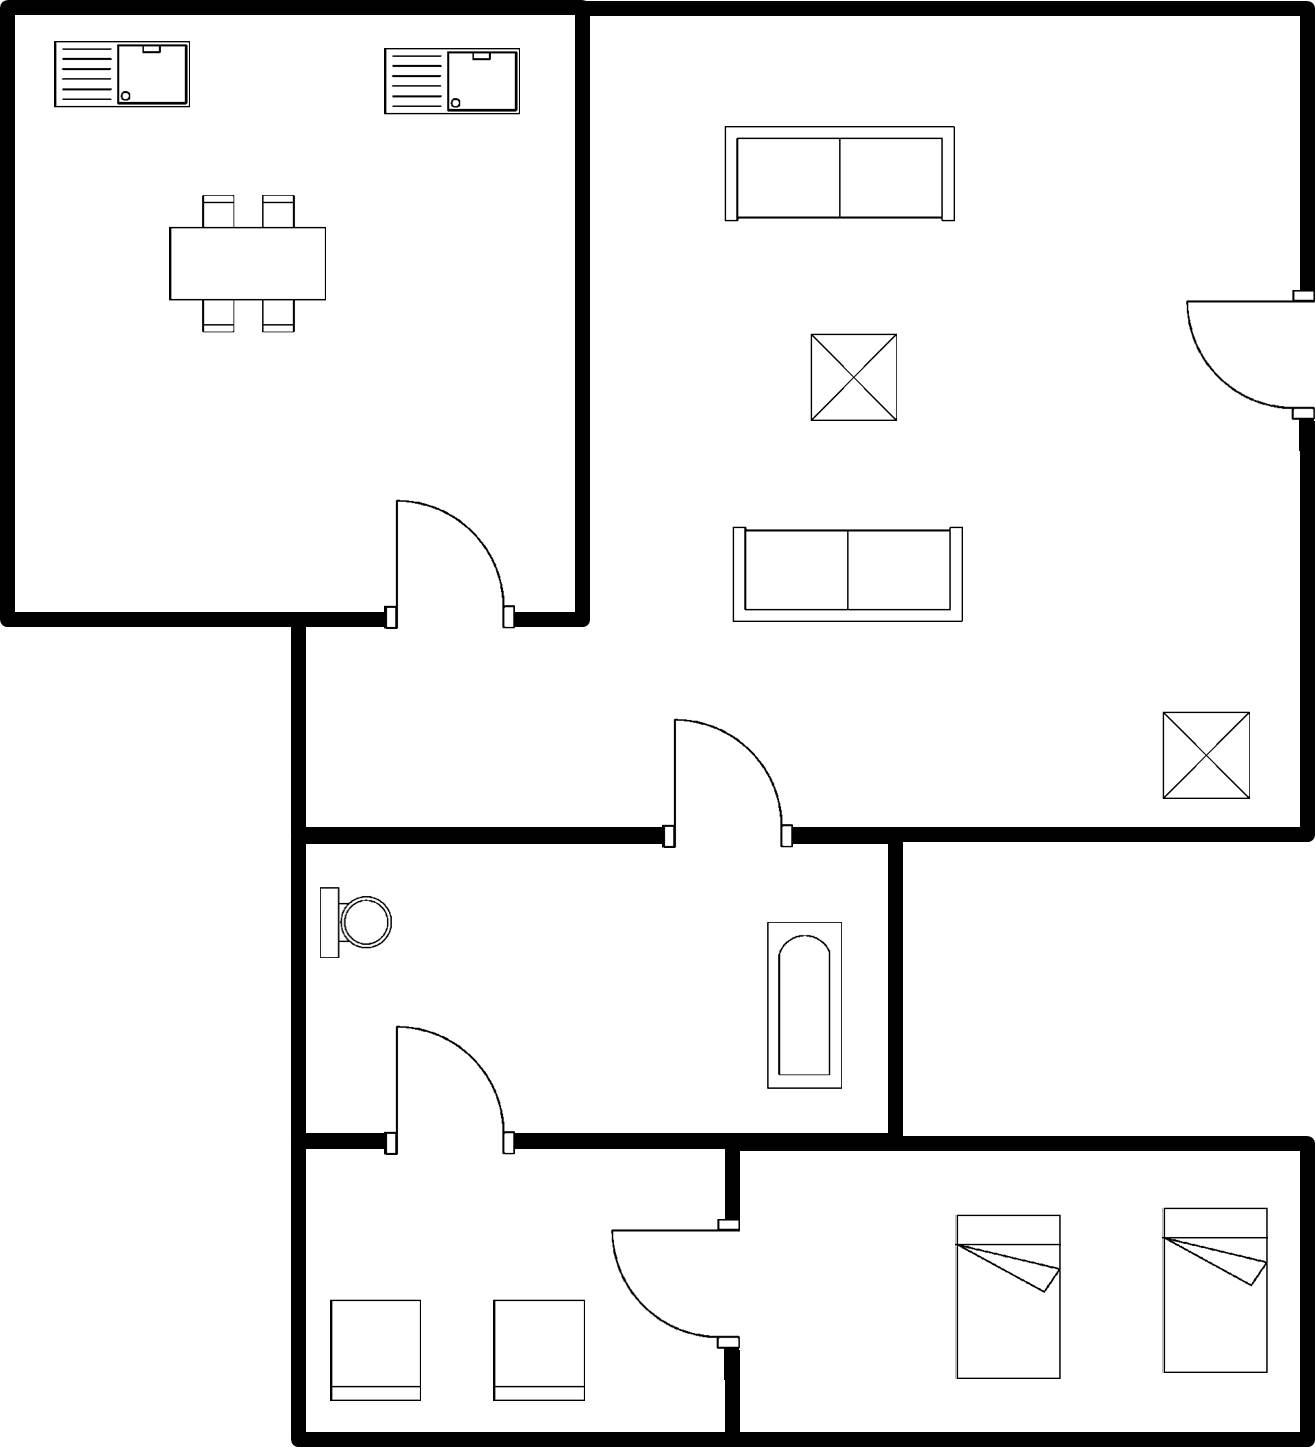bed: (942, 1199, 1075, 1392), (1151, 1192, 1279, 1389)
coffee_table: (1151, 700, 1268, 814), (801, 324, 910, 435)
dining_table: (161, 179, 342, 340)
large_sink: (311, 873, 399, 968)
large_sofa: (710, 114, 973, 231), (721, 519, 976, 634)
sink: (42, 31, 201, 120), (372, 37, 528, 123)
small_sofa: (485, 1290, 600, 1414), (318, 1290, 432, 1411)
tub: (758, 909, 855, 1099)
